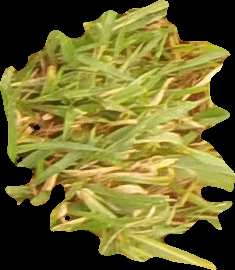grass: (1, 1, 234, 268)
